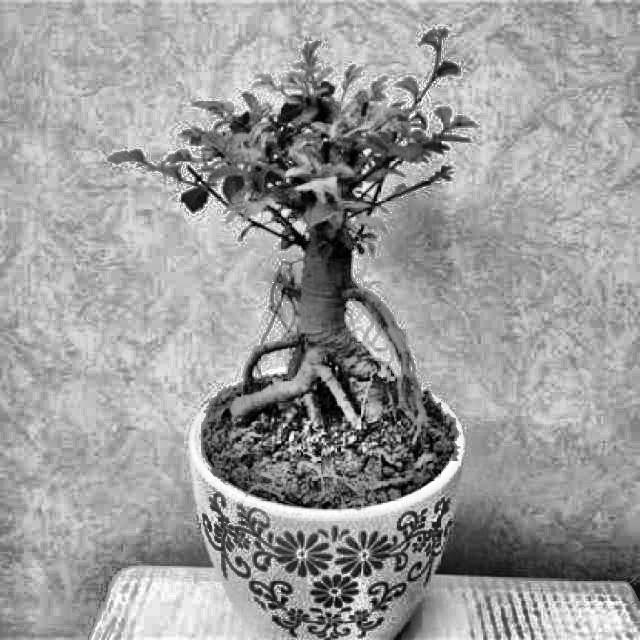plants: (198, 73, 460, 639)
